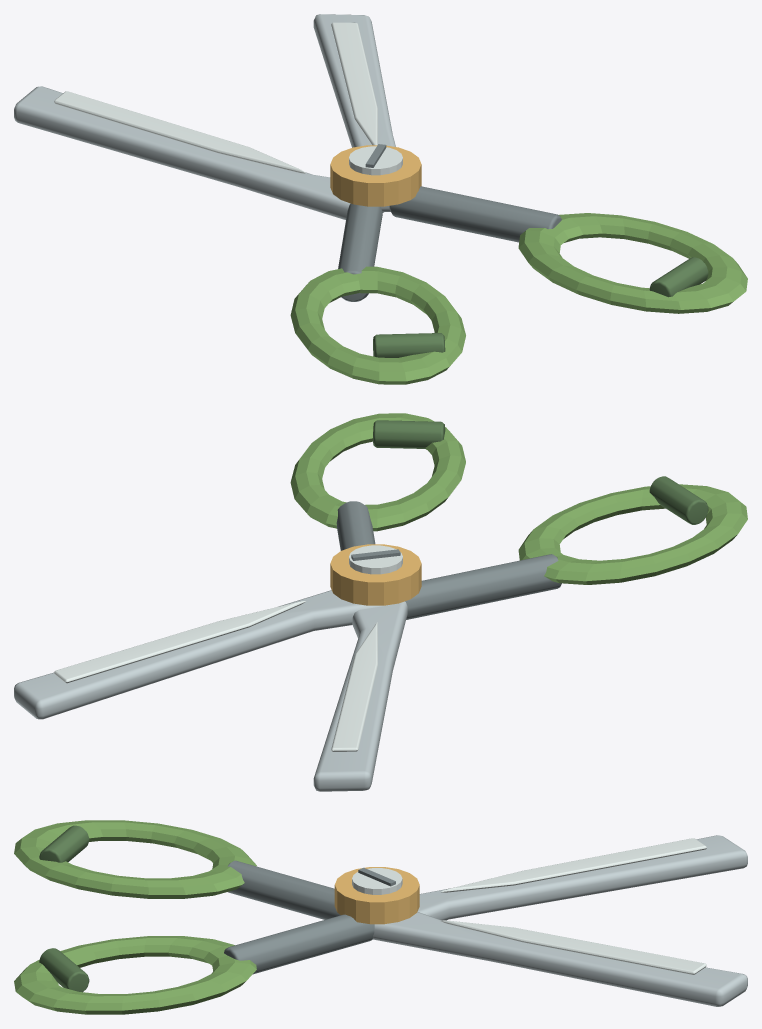
Rendered from GardenScissors.glb.
3 views of the same model, one above another, from view 1: azimuth 30°, elevation 25°; view 2: azimuth 150°, elevation 25°; view 3: azimuth 270°, elevation 25° (orthographic). The views are drawn at different scales.
Visible parts, largest first — view 1: GardenScissors_Handle_R, GardenScissors_Blade_L, GardenScissors_Handle_L, GardenScissors_Tang_R, GardenScissors_Blade_R, GardenScissors_Pivot, GardenScissors_Blade_Edge_L, GardenScissors_Blade_Edge_R, GardenScissors_Tang_L, GardenScissors_Grip_L, GardenScissors_Grip_R, GardenScissors_Pivot_Cap; view 2: GardenScissors_Blade_R, GardenScissors_Handle_L, GardenScissors_Handle_R, GardenScissors_Blade_L, GardenScissors_Tang_L, GardenScissors_Pivot, GardenScissors_Blade_Edge_R, GardenScissors_Blade_Edge_L, GardenScissors_Grip_R, GardenScissors_Grip_L, GardenScissors_Tang_R, GardenScissors_Pivot_Cap; view 3: GardenScissors_Blade_R, GardenScissors_Handle_R, GardenScissors_Handle_L, GardenScissors_Blade_L, GardenScissors_Tang_R, GardenScissors_Tang_L, GardenScissors_Blade_Edge_L, GardenScissors_Blade_Edge_R, GardenScissors_Pivot, GardenScissors_Grip_R, GardenScissors_Grip_L, GardenScissors_Pivot_Cap.
Boxes of the visible parts, x1,y1,x2,y2 form: GardenScissors_Handle_R: [518, 213, 747, 313]; GardenScissors_Blade_L: [14, 86, 383, 219]; GardenScissors_Handle_L: [290, 266, 465, 384]; GardenScissors_Tang_R: [389, 186, 561, 242]; GardenScissors_Blade_R: [313, 14, 395, 211]; GardenScissors_Pivot: [330, 145, 421, 206]; GardenScissors_Blade_Edge_L: [54, 91, 305, 173]; GardenScissors_Blade_Edge_R: [331, 22, 377, 145]; GardenScissors_Tang_L: [338, 203, 382, 301]; GardenScissors_Grip_L: [373, 333, 445, 357]; GardenScissors_Grip_R: [649, 257, 708, 297]; GardenScissors_Pivot_Cap: [349, 146, 402, 175]; GardenScissors_Blade_R: [14, 590, 392, 719]; GardenScissors_Handle_L: [518, 484, 747, 584]; GardenScissors_Handle_R: [290, 413, 465, 531]; GardenScissors_Blade_L: [313, 601, 407, 791]; GardenScissors_Tang_L: [405, 554, 561, 619]; GardenScissors_Pivot: [330, 544, 421, 605]; GardenScissors_Blade_Edge_R: [54, 601, 306, 683]; GardenScissors_Blade_Edge_L: [331, 622, 377, 751]; GardenScissors_Grip_R: [373, 420, 445, 448]; GardenScissors_Grip_L: [649, 476, 708, 524]; GardenScissors_Tang_R: [336, 501, 375, 550]; GardenScissors_Pivot_Cap: [349, 545, 402, 574]; GardenScissors_Blade_R: [372, 912, 747, 1006]; GardenScissors_Handle_R: [14, 936, 256, 1014]; GardenScissors_Handle_L: [14, 820, 256, 898]; GardenScissors_Blade_L: [417, 835, 747, 920]; GardenScissors_Tang_R: [224, 914, 374, 974]; GardenScissors_Tang_L: [227, 860, 340, 919]; GardenScissors_Blade_Edge_L: [440, 838, 706, 892]; GardenScissors_Blade_Edge_R: [441, 920, 706, 974]; GardenScissors_Pivot: [334, 867, 419, 924]; GardenScissors_Grip_R: [39, 948, 89, 992]; GardenScissors_Grip_L: [39, 825, 89, 862]; GardenScissors_Pivot_Cap: [352, 868, 402, 894].
Bounding box in the file's own units: 0.822 × 0.126 × 1.37.
